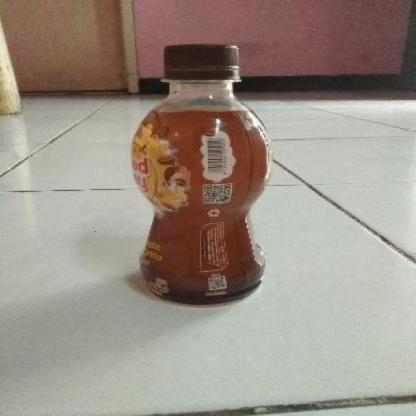plastic_bottles: (128, 40, 272, 309)
